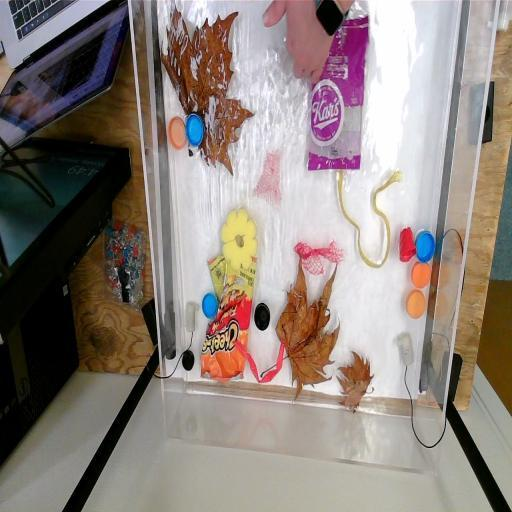Bottle Cap: (167, 114, 187, 153), (416, 226, 436, 264), (406, 290, 428, 324), (186, 114, 206, 150), (410, 262, 433, 292), (200, 292, 219, 322), (254, 302, 271, 334), (182, 347, 196, 372)
Cone Cap: (397, 224, 417, 266)
Leaf: (160, 2, 256, 180), (276, 254, 340, 400), (336, 349, 377, 415)
Netting: (250, 148, 286, 212), (292, 236, 346, 278)
Plastic Bag: (308, 24, 366, 174), (201, 252, 258, 382)
Plastic Strand: (337, 170, 401, 270), (232, 332, 288, 388)
Sponge: (220, 206, 260, 273)
